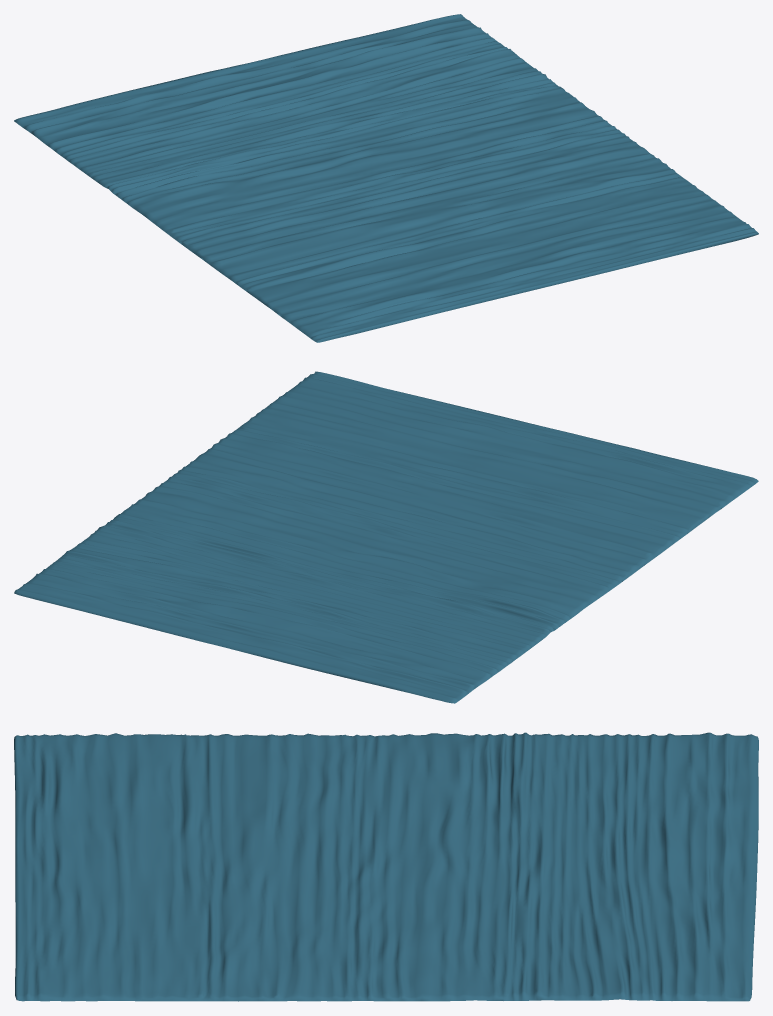
File: Rug_11.4.fbx
3 renders of one model, top to bottom at view 1: azimuth 30°, elevation 25°; view 2: azimuth 150°, elevation 25°; view 3: azimuth 270°, elevation 25°, orthographic. The views are drawn at different scales.
Visible parts, largest first — view 1: roog2; view 2: roog2; view 3: roog2.
Part boxes in pixels (<box>): roog2: <box>14,14,758,342</box>; roog2: <box>14,371,758,703</box>; roog2: <box>14,732,758,1001</box>.
Bounding box in the file's own units: 198 × 3.49 × 235.
